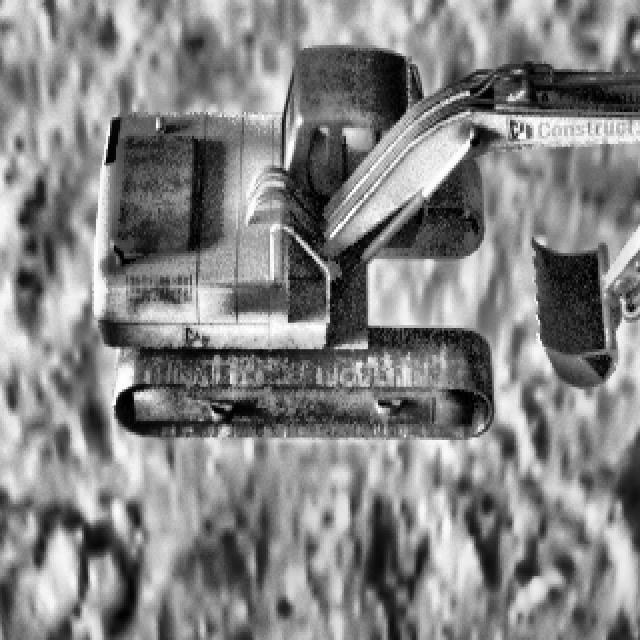excavator: (92, 42, 640, 434)
